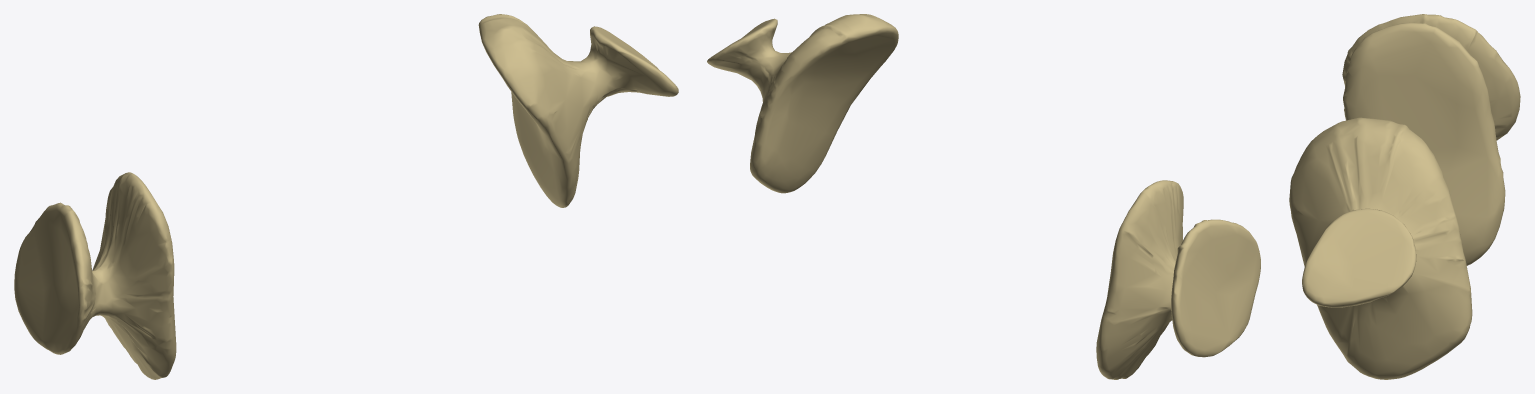
3 renders of one model, left to right at view 1: azimuth 30°, elevation 25°; view 2: azimuth 150°, elevation 25°; view 3: azimuth 270°, elevation 25°, orthographic. The views are drawn at different scales.
Visible parts, largest first — view 1: 左侧眼球悬韧带; view 2: 左侧眼球悬韧带; view 3: 左侧眼球悬韧带.
Boxes of the visible parts, x1=… form: 左侧眼球悬韧带: x1=14, y1=14, x2=678, y2=379; 左侧眼球悬韧带: x1=707, y1=14, x2=1260, y2=379; 左侧眼球悬韧带: x1=1289, y1=14, x2=1520, y2=379.
Bounding box in the file's own units: 0.057 × 0.0271 × 0.0172.
